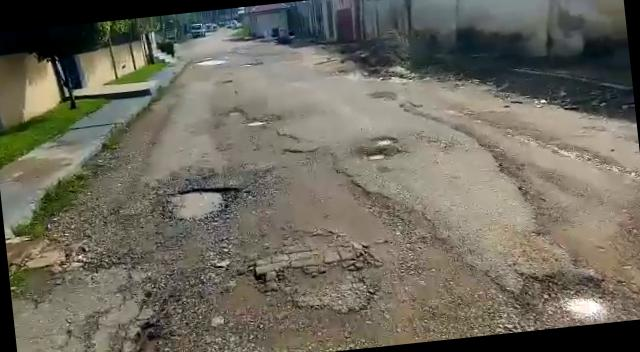pothole: (164, 182, 246, 223), (370, 135, 400, 147), (364, 151, 387, 162), (247, 120, 270, 128), (226, 109, 242, 117)
